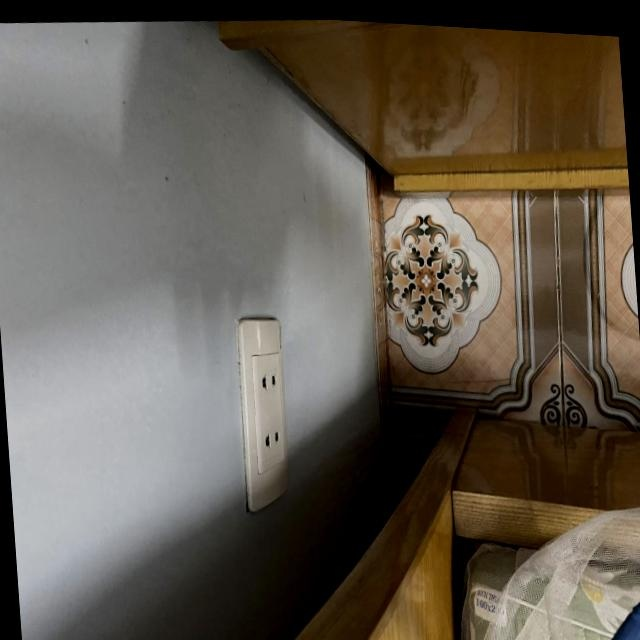outlet: (233, 313, 294, 514)
